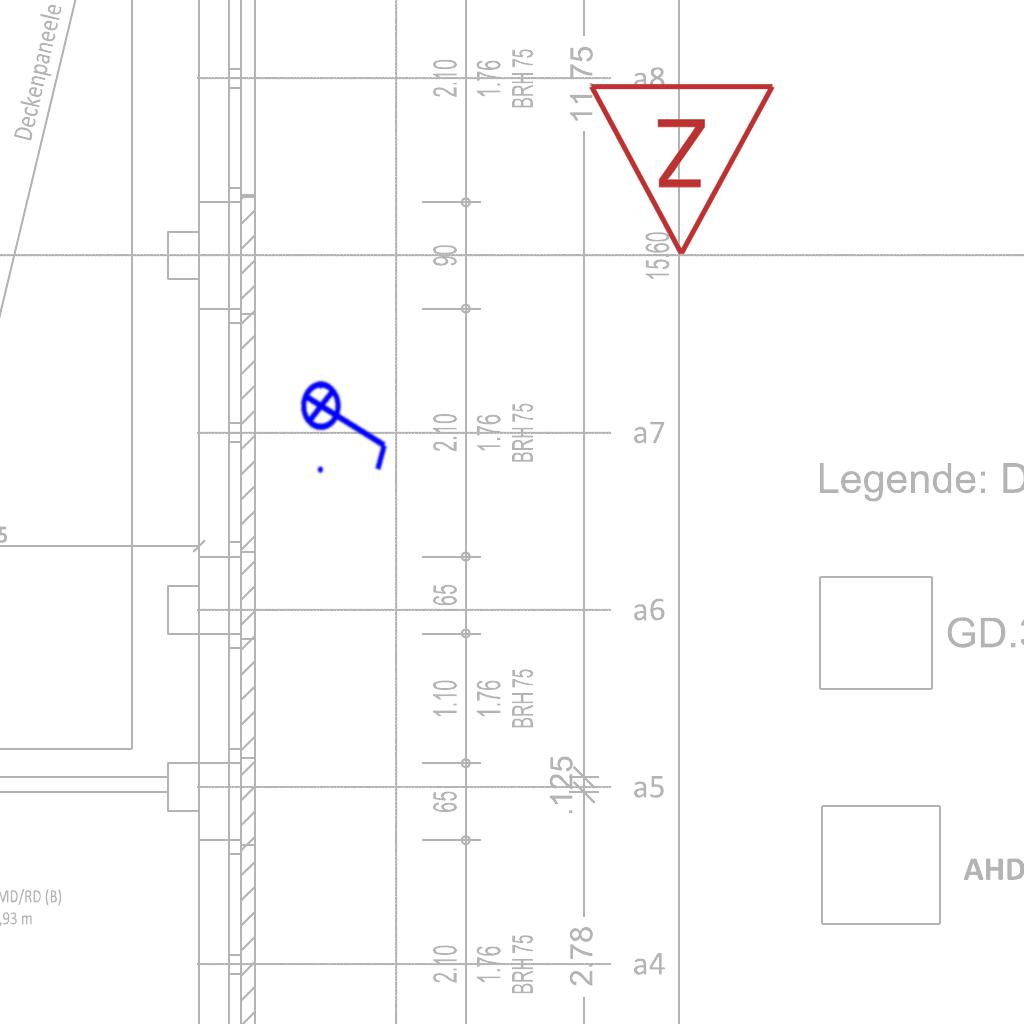Ausschalter_beleuchtet: (299, 367, 395, 479)
Zimmersignalleuchte: (586, 69, 782, 269)
